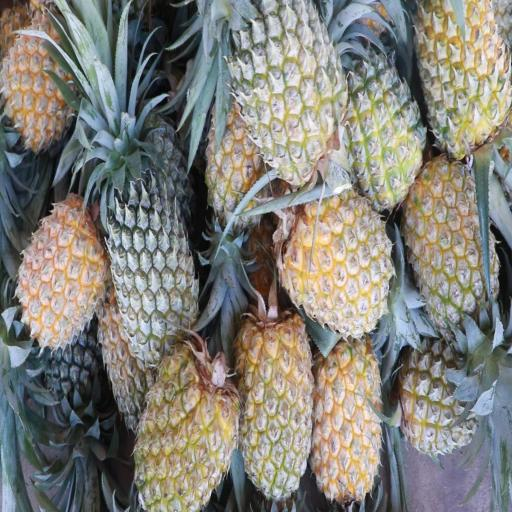------------------------------: (235, 0, 342, 175), (407, 165, 497, 321), (419, 0, 507, 151), (400, 340, 482, 454)
Pineapple - v8 v1: (131, 343, 241, 512), (290, 185, 392, 333), (240, 310, 314, 496), (21, 202, 109, 345), (345, 56, 422, 201), (317, 343, 382, 499), (5, 27, 83, 146), (208, 82, 272, 225)
